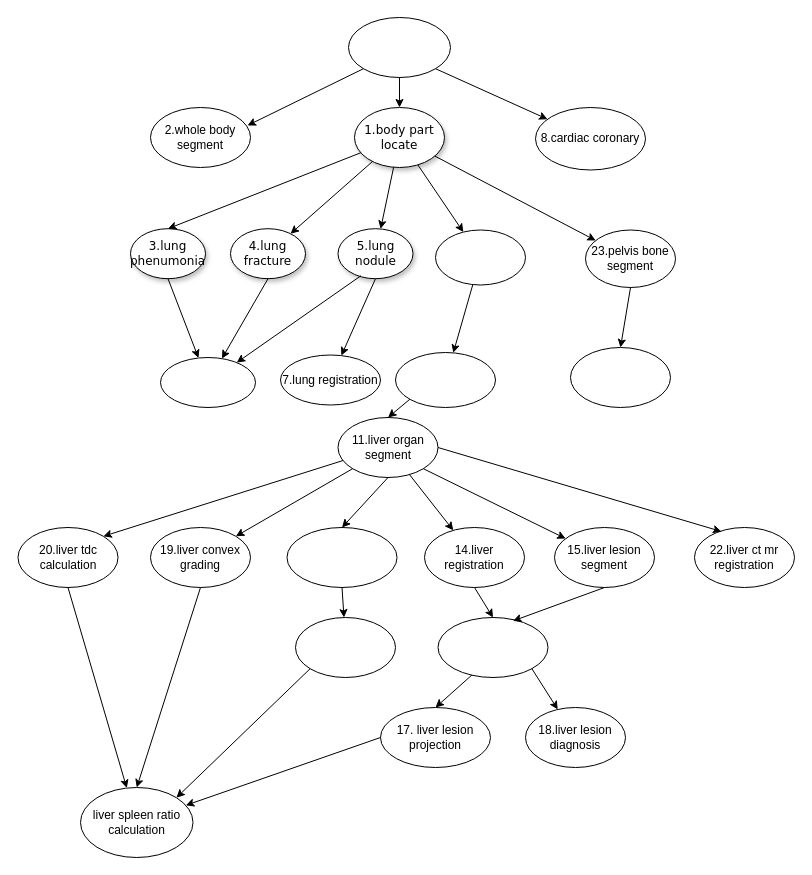
Some shapes in this 812 by 875 pixel diagram are drawn without their labels. Here are the shapes that lost their labels. From the top down, the centre of each, then its label:
the point at 399,47: START
the point at 480,257: 9.liver scouting
the point at 208,382: 6.lung result
the point at 445,380: 10.liver phase detect
the point at 620,377: 24.pelvis ct mr registration
the point at 341,557: 12.liver vessel segment
the point at 345,647: 13.liver vessel naming
the point at 492,647: 16.liver lesion instantiation
